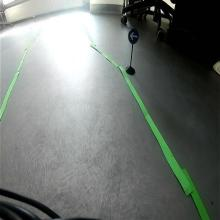left: (127, 28, 140, 44)
